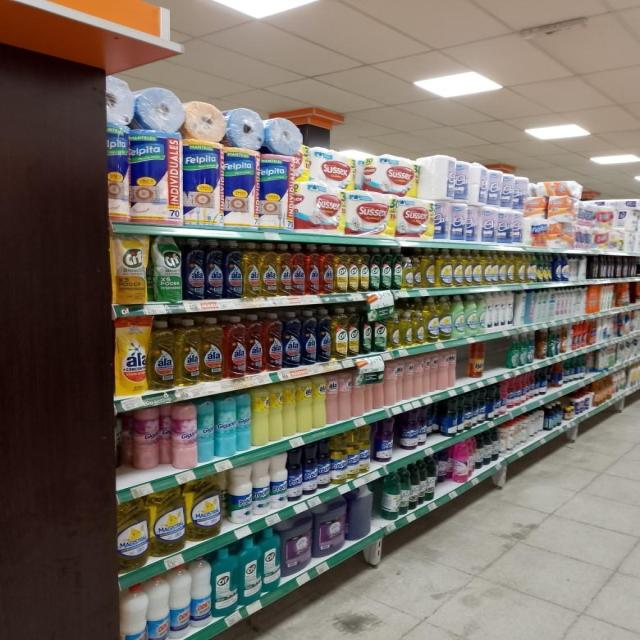ala_conc_amarillo: (149, 318, 175, 390), (176, 317, 200, 386), (200, 316, 223, 382), (260, 242, 277, 298), (243, 242, 259, 298), (278, 243, 290, 296)
ala_conc_azul: (184, 238, 204, 300), (205, 239, 223, 300), (224, 240, 242, 299), (282, 311, 300, 368), (316, 308, 332, 362), (302, 309, 316, 365)
ala_conc_rojo: (224, 315, 246, 379), (264, 312, 282, 371), (247, 314, 263, 374), (292, 243, 306, 296), (320, 244, 334, 294), (306, 243, 318, 295)
ala_crem_amarillo: (297, 378, 312, 432), (269, 385, 283, 441), (312, 375, 326, 429), (283, 381, 296, 437)
ala_sachet_amarillo: (115, 314, 148, 395)
cif_conc_bot_amarilla: (332, 307, 347, 359), (347, 307, 360, 356), (335, 245, 347, 293), (348, 245, 358, 292), (359, 246, 369, 292)
cif_conc_botella_verde: (361, 307, 373, 354), (374, 309, 386, 352), (381, 246, 392, 291), (370, 246, 380, 292), (392, 247, 402, 290)
cif_conc_sachet_amarillo: (112, 232, 148, 304)
cif_conc_sachet_verde: (152, 235, 182, 302)
magistral_con_amarillo: (149, 487, 185, 555), (186, 476, 222, 540), (437, 248, 452, 287), (438, 296, 451, 341), (425, 300, 438, 343), (422, 247, 435, 288), (415, 247, 428, 288), (400, 310, 413, 348), (387, 312, 400, 350), (403, 248, 413, 290), (453, 248, 464, 286), (462, 248, 473, 286), (472, 249, 483, 286), (413, 308, 424, 344), (484, 250, 495, 285), (505, 251, 515, 284), (516, 251, 526, 283), (526, 252, 536, 282), (497, 251, 505, 284)
